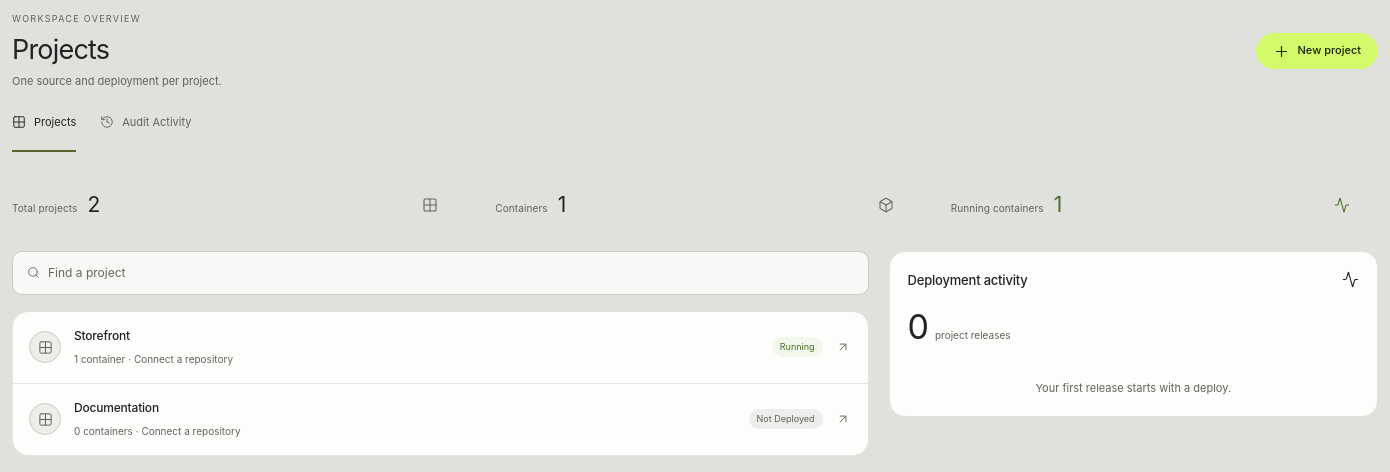
Test: project directory › has one page heading and filters the entire project list through the standalone search
Expected: the number of headings "Projects" is 1, 12,33 -> 109,66
Expected: the text "1 container · Connect a repository" is shown, 74,353 -> 233,365
Type "  STORE  " into the search field named "Search projects".
click(451, 273); type("  STORE  ")  # box 48,252 -> 854,294
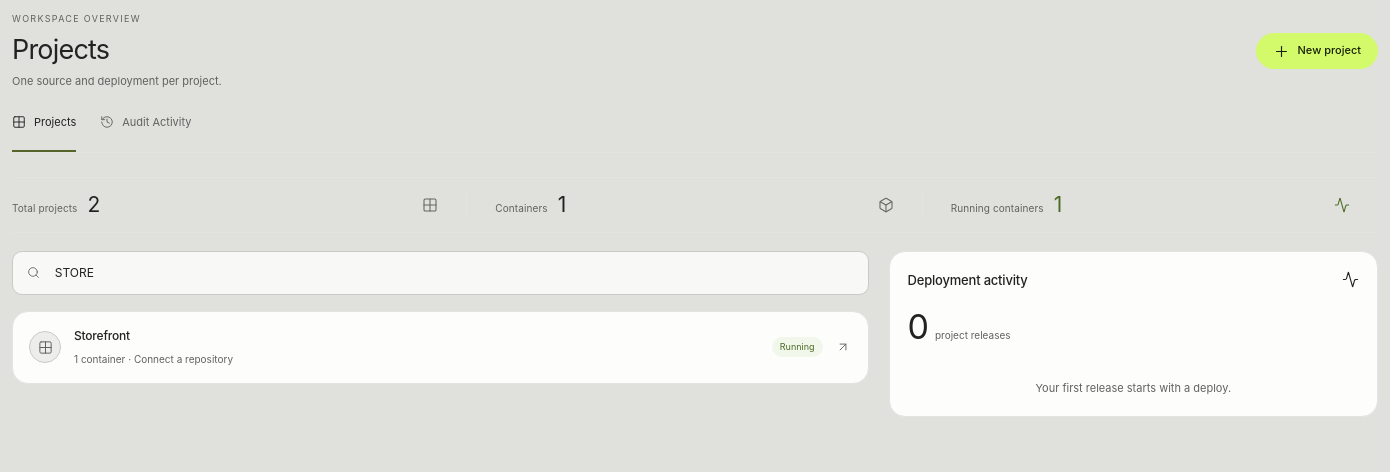
Expected: the link "Storefront 1 container · Connect a repository running" is shown, 29,328 -> 850,365
Now the link "Documentation" is gone
Replace the text in the search field named "Search projects" with "missing" at (451, 273), box 48,252 -> 854,294
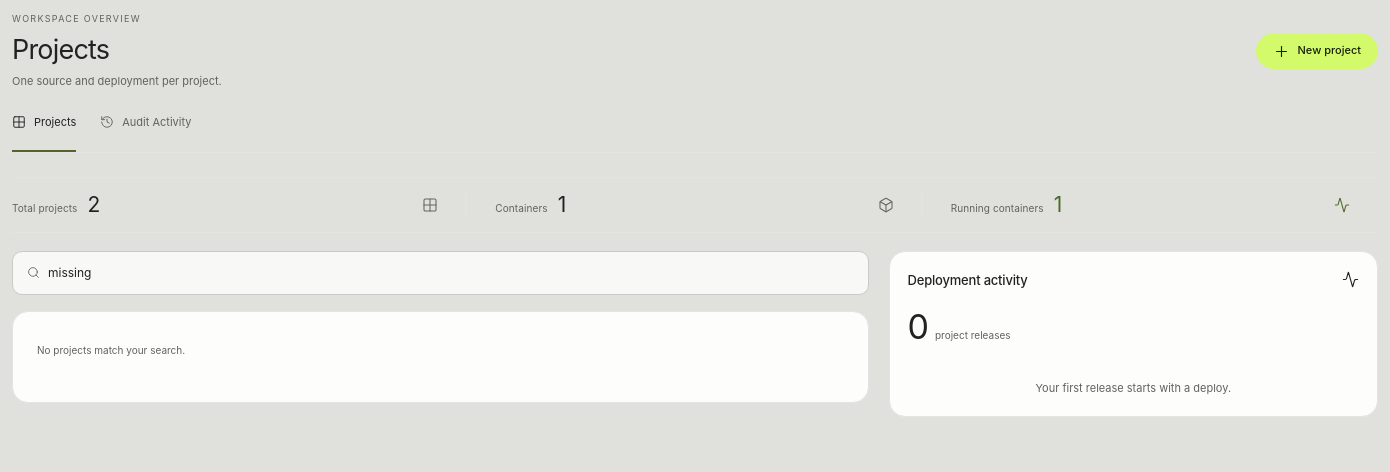
Now the text "No projects match your search." is shown, box 37,344 -> 185,356
Clear the search field named "Search projects" at (451, 273), box 48,252 -> 854,294
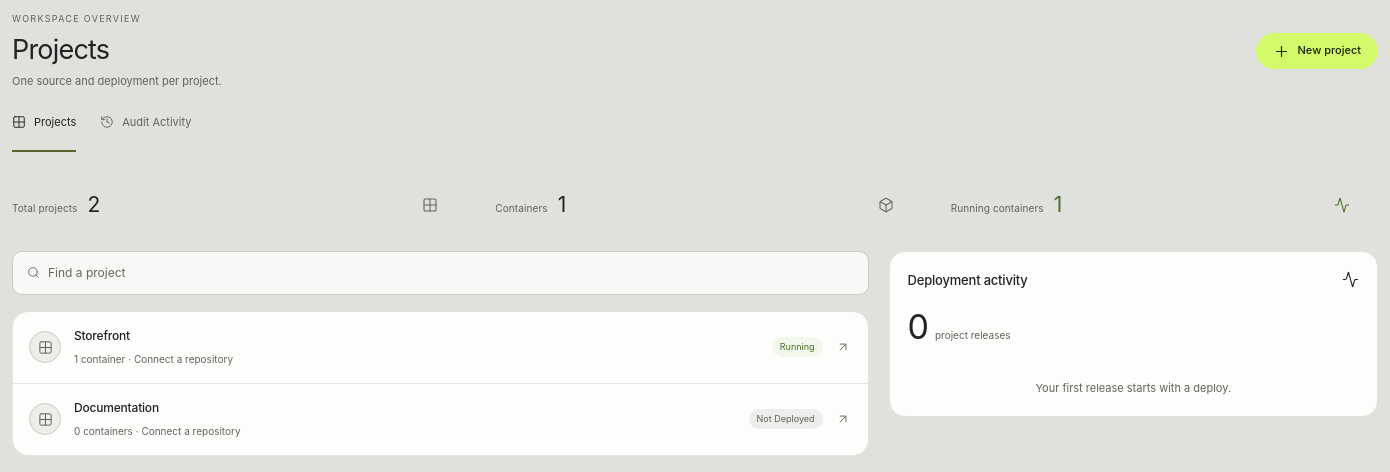
Now the link "Documentation" is shown, box 29,400 -> 850,437
